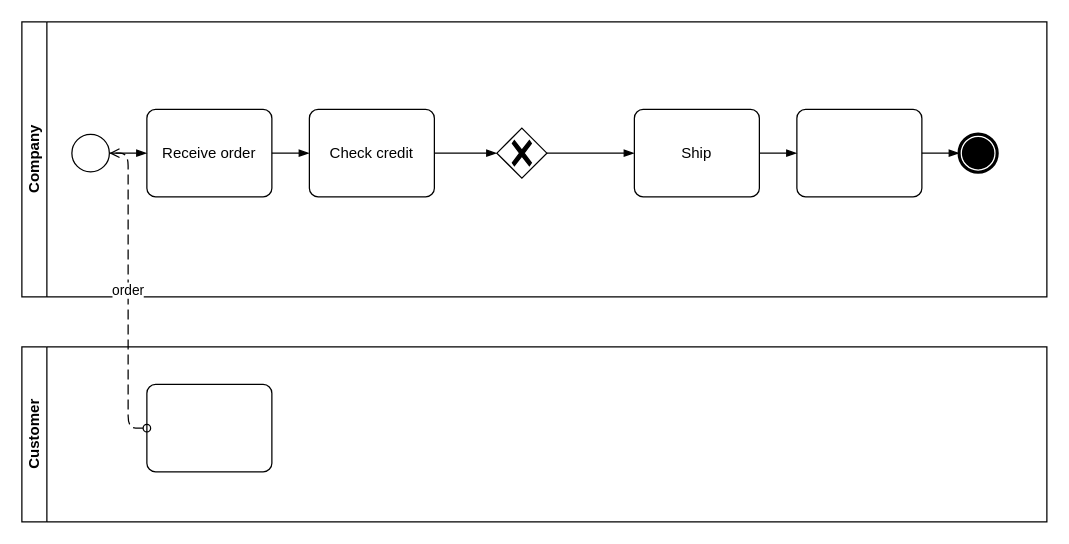
The diagram is 1069 pixels wide and 544 high, and some of its shapes have lost their labels. The shapes that lost their labels are listed below. From the top down, each one's box as (x1, y1, x2, y2) in pixels, then its label:
(496, 127, 547, 178): Approve?
(796, 108, 922, 197): Invoice
(146, 383, 272, 472): Place order
